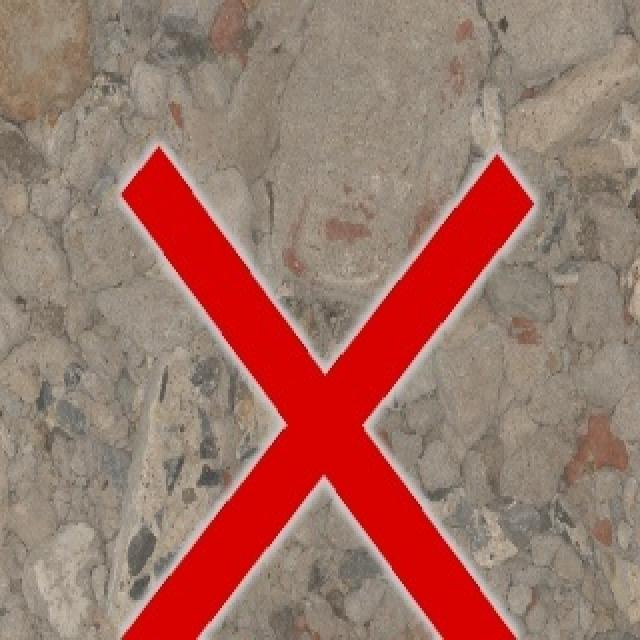x_marker: (121, 145, 533, 639)
